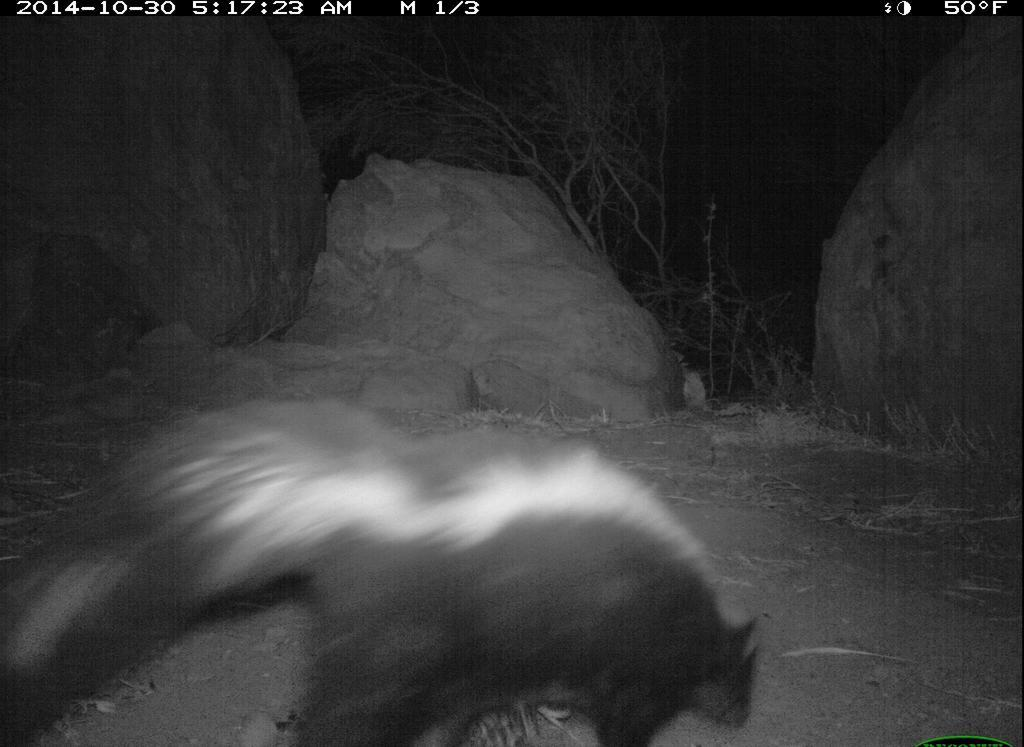skunk: (3, 378, 774, 747)
